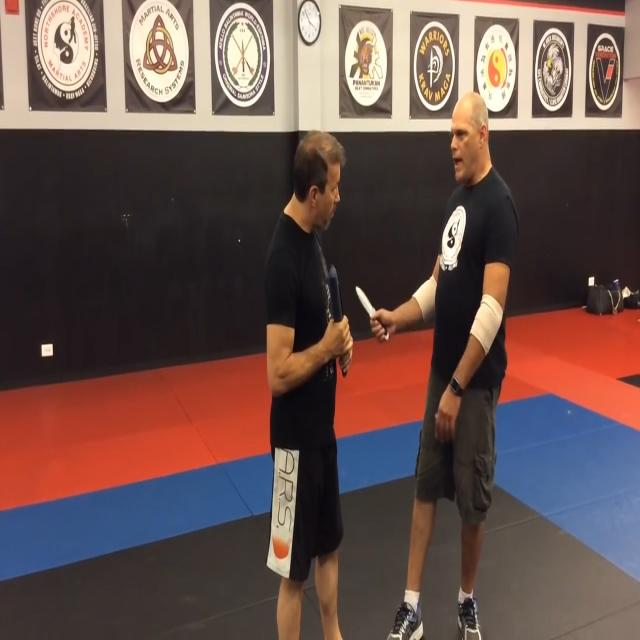knife: (353, 281, 380, 327)
